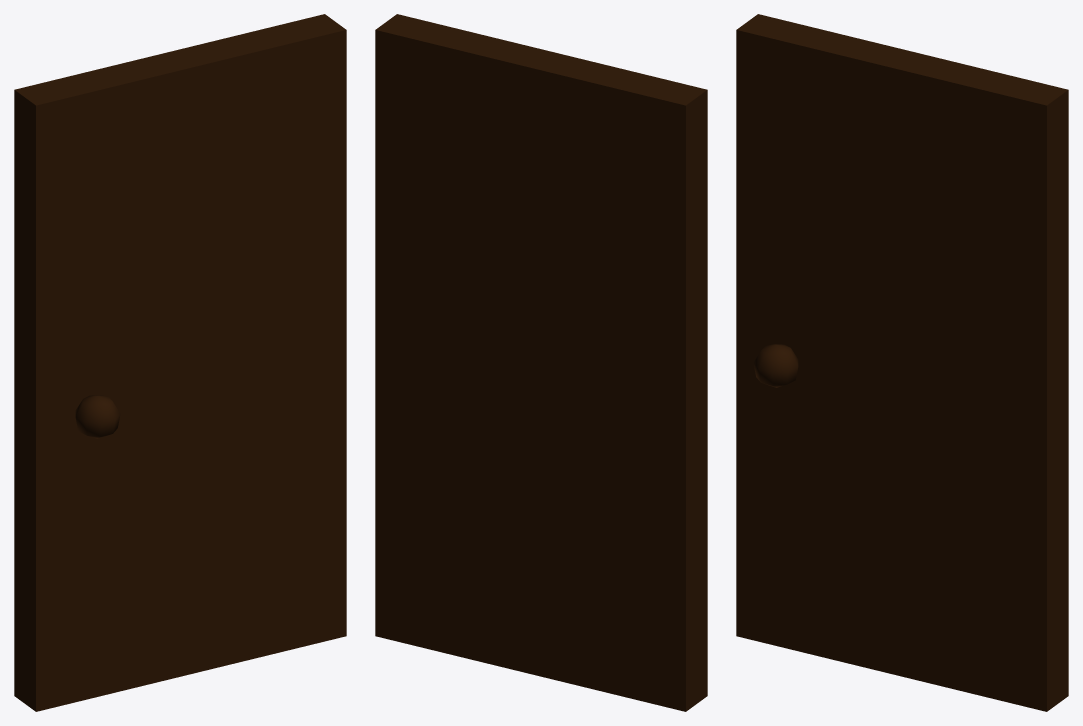
The model's file is ajto.FBX.
The picture shows the model from 3 angles, left to right: view 1: azimuth 30°, elevation 25°; view 2: azimuth 150°, elevation 25°; view 3: azimuth 330°, elevation 25°; orthographic projection.
Visible parts, largest first — view 1: ajto; view 2: ajto; view 3: ajto.
Boxes of the visible parts, x1,y1,x2,y2 form: ajto: (14,14,346,711); ajto: (375,14,707,711); ajto: (736,14,1068,711).
Bounding box in the file's own units: 316 × 590 × 76.06.
